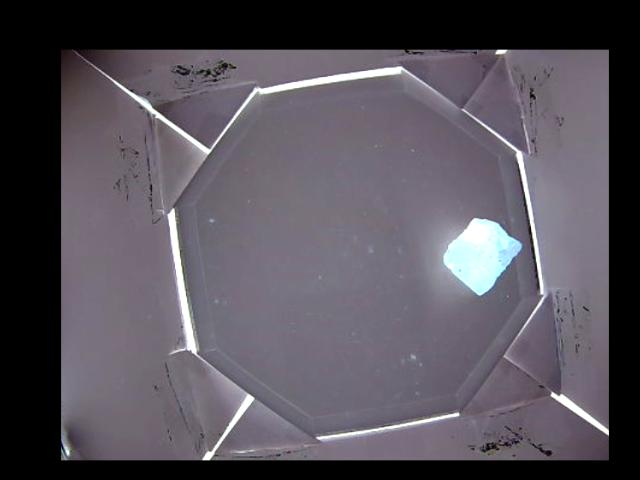Brisk: (445, 218, 523, 294)
